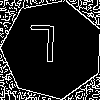L: (27, 25, 57, 72)
